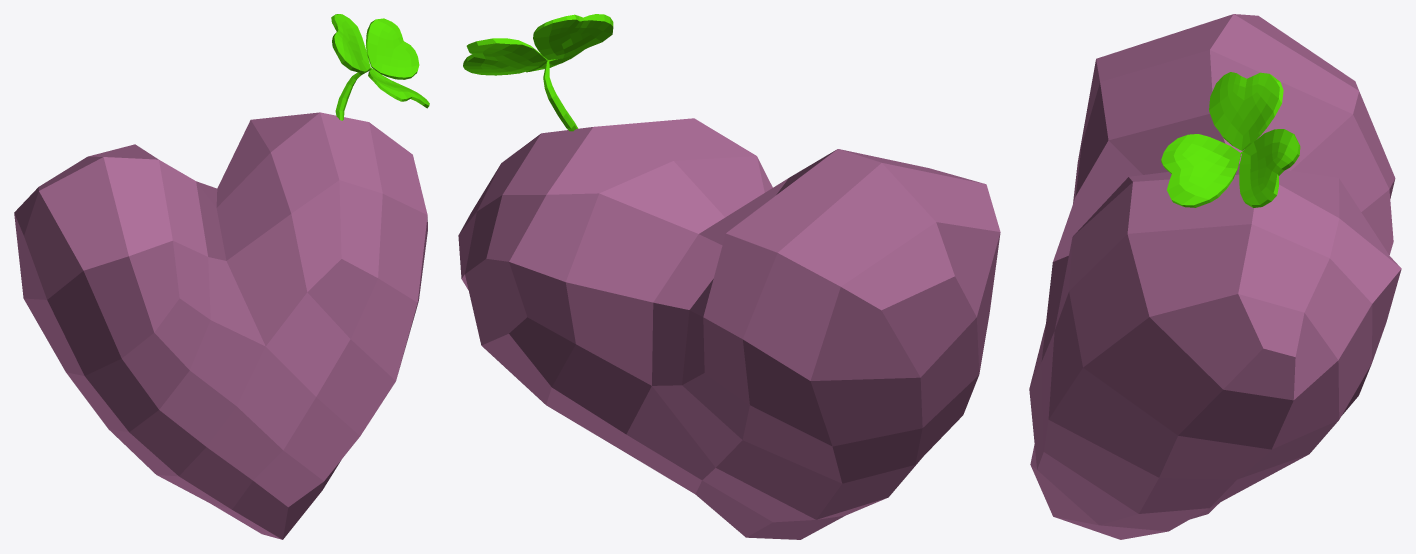
File: Heart.fbx
3 renders of one model, left to right at view 1: azimuth 30°, elevation 25°; view 2: azimuth 150°, elevation 25°; view 3: azimuth 270°, elevation 25°, orthographic. The views are drawn at different scales.
Visible parts, largest first — view 1: Heart; view 2: Heart; view 3: Heart.
Part boxes in pixels (x1=…): Heart: x1=14, y1=14, x2=429, y2=539; Heart: x1=458, y1=14, x2=1000, y2=539; Heart: x1=1029, y1=14, x2=1401, y2=539.
Size of the model in its own units: 35.53 by 37.73 by 23.31.
